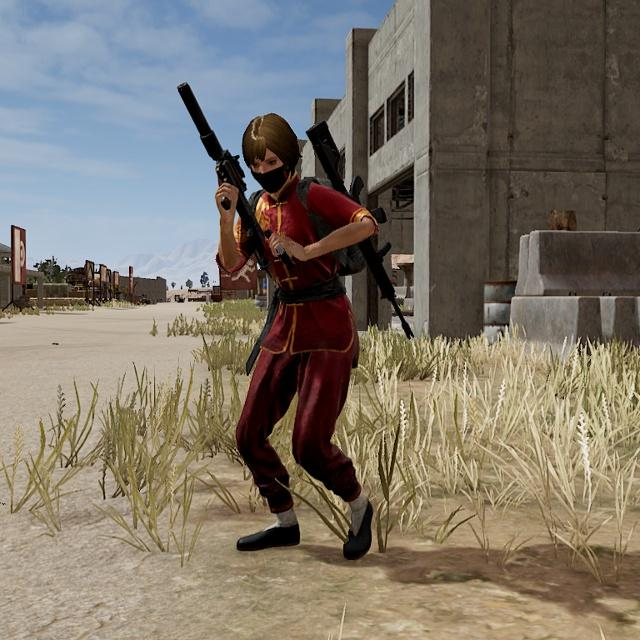head: (239, 111, 303, 200)
people: (211, 107, 397, 568)
